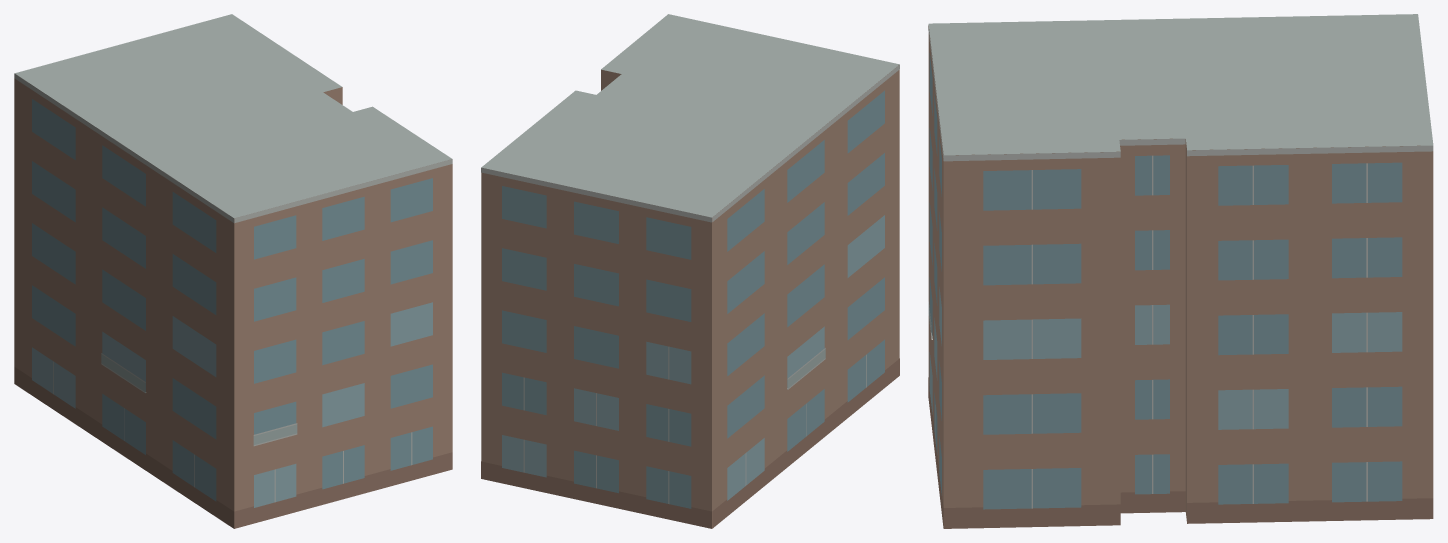
The model's file is survey-upis-32974918.glb.
3 renders of one model, left to right at view 1: azimuth 30°, elevation 25°; view 2: azimuth 150°, elevation 25°; view 3: azimuth 270°, elevation 25°, orthographic. The views are drawn at different scales.
Parts seen in each view (by area): view 1: survey-upis-32974918.tmp; view 2: survey-upis-32974918.tmp; view 3: survey-upis-32974918.tmp.
Part boxes in pixels (bbox=[...]): survey-upis-32974918.tmp: bbox=[14, 14, 452, 528]; survey-upis-32974918.tmp: bbox=[481, 14, 899, 528]; survey-upis-32974918.tmp: bbox=[928, 14, 1433, 528].
Size of the model in its own units: 12.39 by 15.25 by 18.7.
